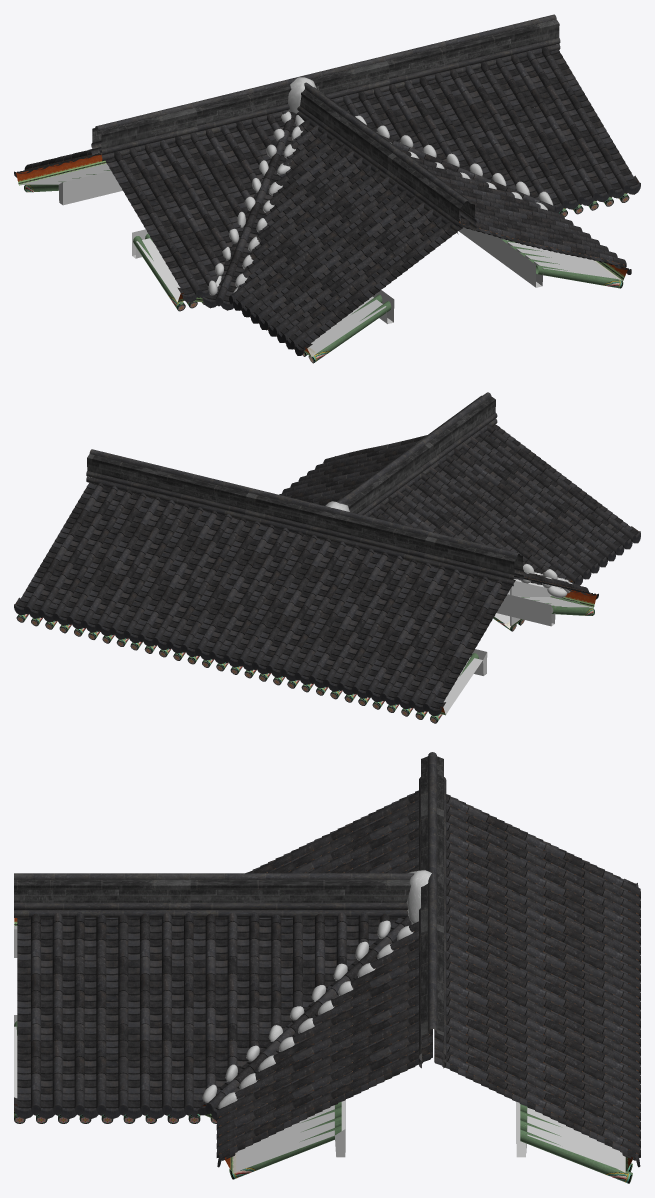
The model's file is SM_Giwa01B_a2.fbx.
3 renders of one model, top to bottom at view 1: azimuth 30°, elevation 25°; view 2: azimuth 150°, elevation 25°; view 3: azimuth 270°, elevation 25°, orthographic. The views are drawn at different scales.
Visible parts, largest first — view 1: SM_Giwa01B_a2; view 2: SM_Giwa01B_a2; view 3: SM_Giwa01B_a2.
Part boxes in pixels (x1,y1,x2,y2): SM_Giwa01B_a2: [14, 14, 640, 363]; SM_Giwa01B_a2: [14, 392, 640, 723]; SM_Giwa01B_a2: [14, 752, 640, 1183].
Bounding box in the file's own units: 922 × 881 × 248.
